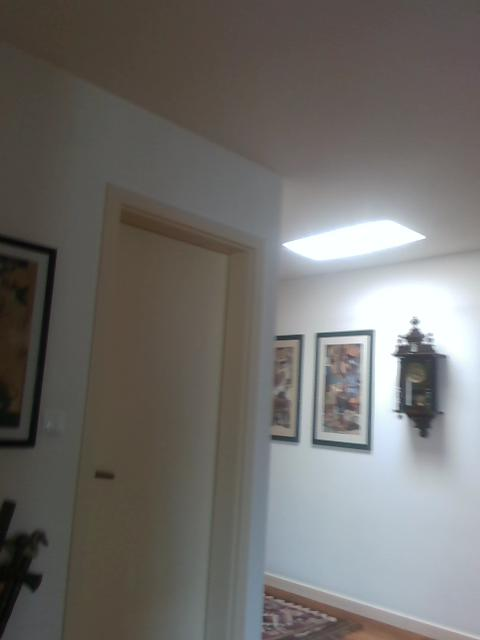door: (92, 219, 234, 640)
